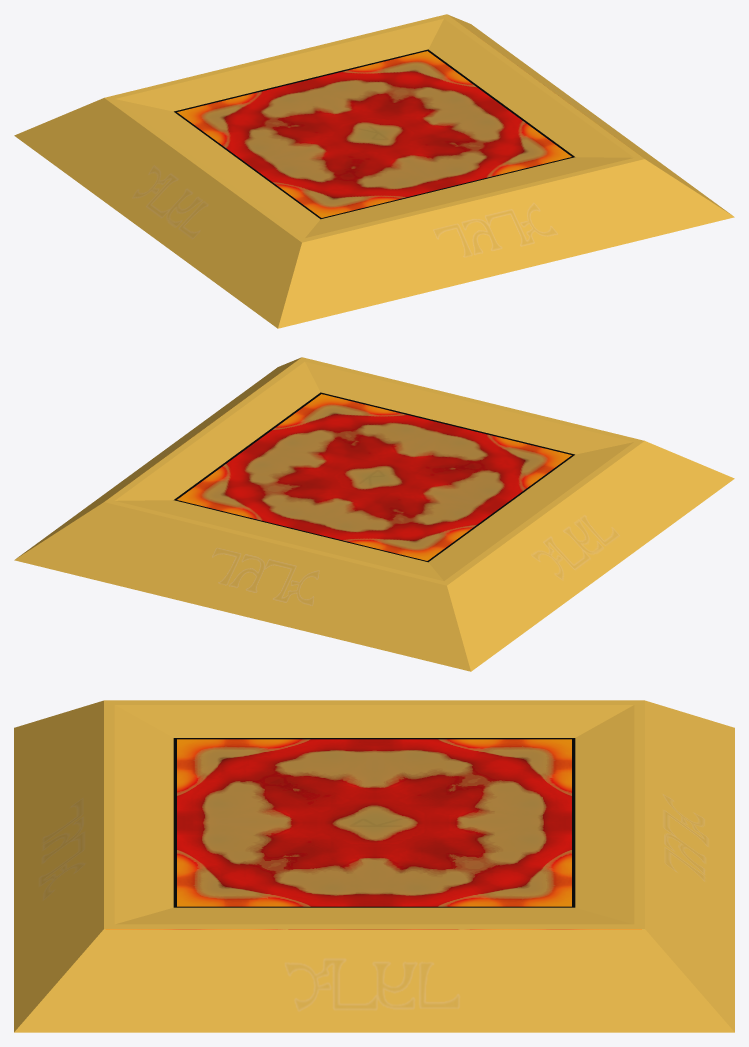
The model's file is EndPlate.glb.
The picture shows the model from 3 angles, top to bottom: view 1: azimuth 30°, elevation 25°; view 2: azimuth 150°, elevation 25°; view 3: azimuth 270°, elevation 25°; orthographic projection. The views are drawn at different scales.
Visible parts, largest first — view 1: pad; view 2: pad; view 3: pad.
Boxes of the visible parts, <box> form: pad: <box>14,14,734,328</box>; pad: <box>14,357,734,671</box>; pad: <box>14,700,734,1032</box>.
Size of the model in its own units: 2 by 0.2006 by 2.
3 materials, 1 textured.
